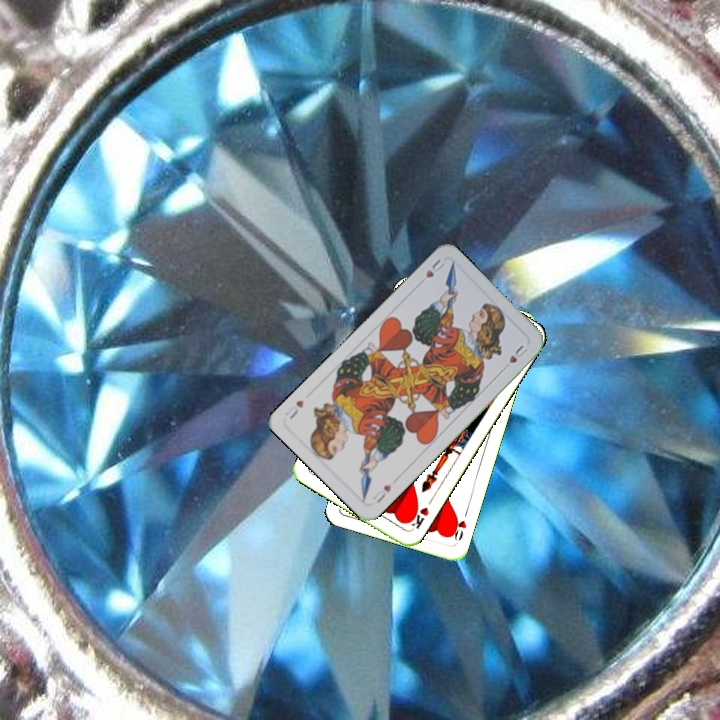HK: (404, 502, 431, 533)
HO: (447, 506, 470, 543)
HU: (368, 480, 395, 506), (421, 255, 447, 280)
